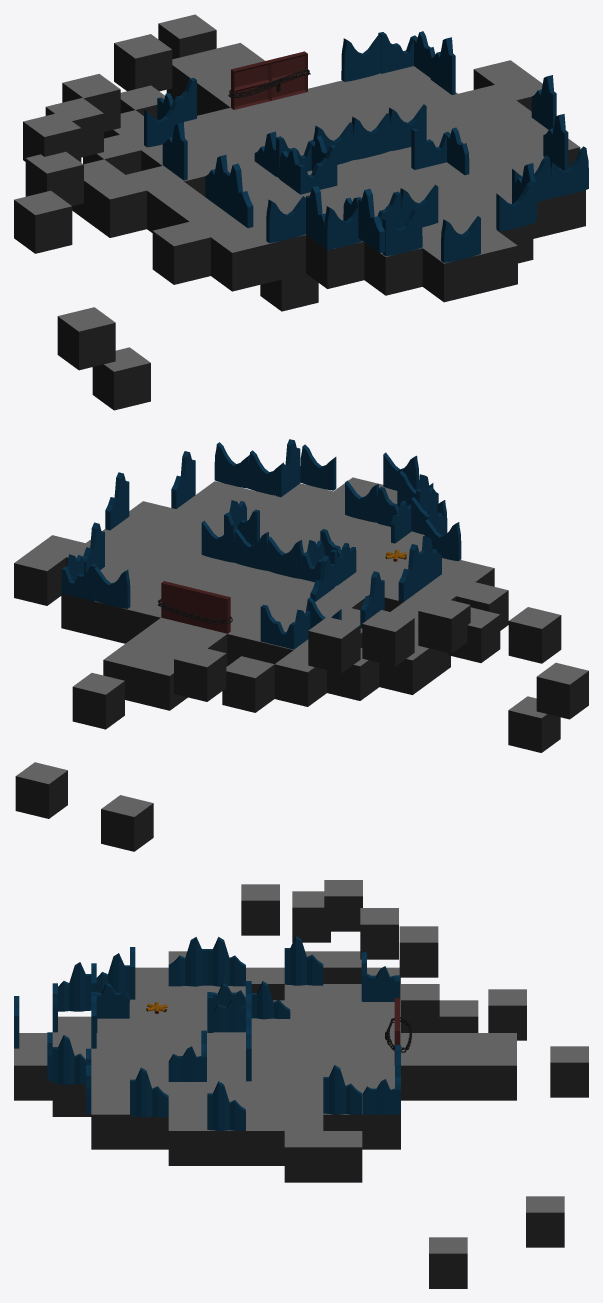
File: IsometricTile_Dark.fbx
3 renders of one model, top to bottom at view 1: azimuth 30°, elevation 25°; view 2: azimuth 150°, elevation 25°; view 3: azimuth 270°, elevation 25°, orthographic. The views are drawn at different scales.
Visible parts, largest first — view 1: Base, Base.039, Base.009, Base.015, Base.046, Base.010, Base.036, Base.045, Base.034, Base.038, Base.030, Base.040 (+55 smaller); view 2: Base, Base.039, Base.036, Base.043, Base.041, Base.042, Base.046, Base.044, Base.037, Base.040, Base.023, Base.024 (+44 smaller); view 3: Base, Base.016, Base.024, Base.026, Base.028, Base.037, Base.020, Base.029, Base.039, Base.042, Base.043, Base.044 (+38 smaller).
Part boxes in pixels (x1=…): Base: x1=184, y1=66, x2=585, y2=288; Base.039: x1=14, y1=190, x2=72, y2=253; Base.009: x1=88, y1=175, x2=146, y2=237; Base.015: x1=152, y1=222, x2=210, y2=284; Base.046: x1=57, y1=307, x2=115, y2=370; Base.010: x1=211, y1=228, x2=268, y2=291; Base.036: x1=114, y1=34, x2=172, y2=91; Base.045: x1=92, y1=347, x2=150, y2=410; Base.034: x1=422, y1=243, x2=480, y2=302; Base.038: x1=25, y1=151, x2=83, y2=205; Base.030: x1=364, y1=242, x2=422, y2=295; Base.040: x1=23, y1=112, x2=81, y2=162; Base: x1=61, y1=481, x2=424, y2=665; Base.039: x1=508, y1=607, x2=561, y2=663; Base.036: x1=174, y1=645, x2=226, y2=701; Base.043: x1=15, y1=762, x2=67, y2=818; Base.041: x1=362, y1=610, x2=414, y2=666; Base.042: x1=72, y1=673, x2=124, y2=729; Base.046: x1=536, y1=662, x2=588, y2=719; Base.044: x1=101, y1=795, x2=153, y2=851; Base.037: x1=308, y1=617, x2=360, y2=673; Base.040: x1=418, y1=597, x2=470, y2=653; Base.023: x1=222, y1=656, x2=274, y2=712; Base.024: x1=14, y1=549, x2=66, y2=605; Base: x1=91, y1=1000, x2=400, y2=1149; Base.016: x1=439, y1=1049, x2=478, y2=1100; Base.024: x1=323, y1=1131, x2=362, y2=1182; Base.026: x1=284, y1=1131, x2=323, y2=1182; Base.028: x1=168, y1=1114, x2=207, y2=1165; Base.037: x1=399, y1=926, x2=438, y2=977; Base.020: x1=478, y1=1049, x2=516, y2=1100; Base.029: x1=246, y1=1114, x2=284, y2=1165; Base.039: x1=241, y1=884, x2=279, y2=935; Base.042: x1=550, y1=1046, x2=588, y2=1097; Base.043: x1=526, y1=1196, x2=564, y2=1247; Base.044: x1=429, y1=1237, x2=467, y2=1288.
Size of the model in its own units: 14.67 by 7.48 by 14.86.
